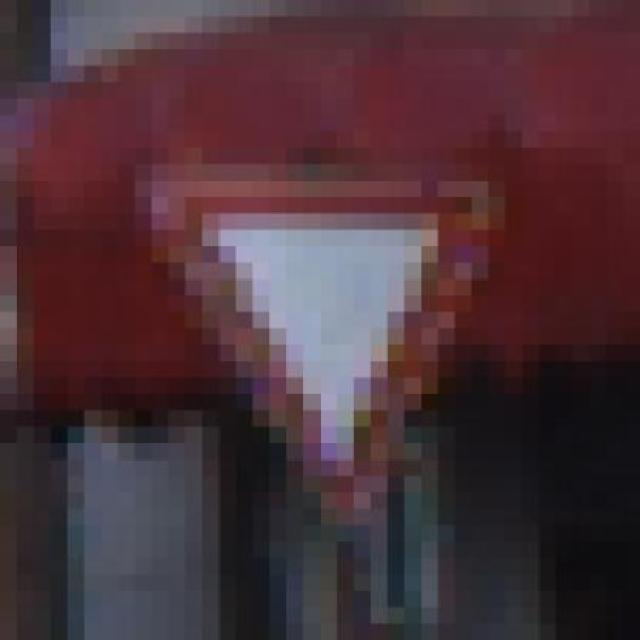Give Way: (101, 131, 539, 509)
